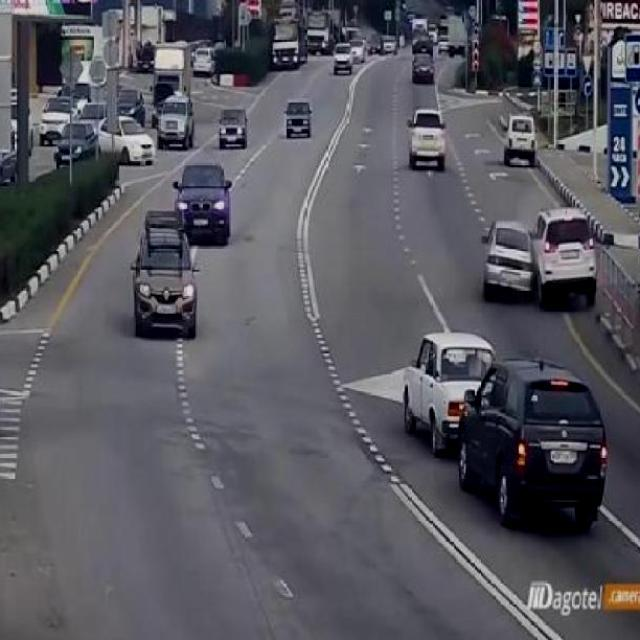accident: (513, 225, 563, 288)
